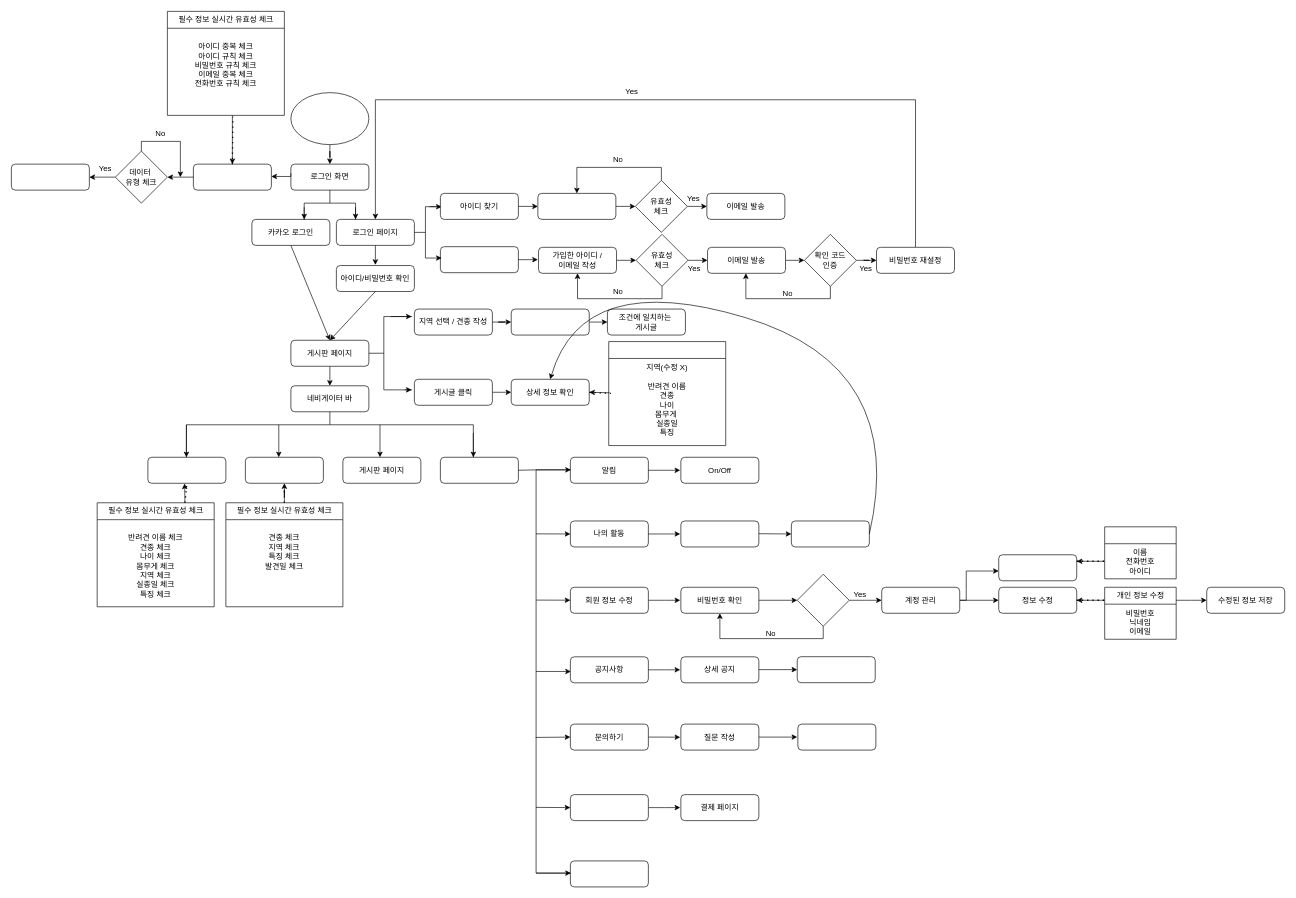
This 1296x898 diagram has some shape labels left out. The shapes that lost their labels are listed below. From the top down, each one's box as (x1, y1, x2, y2) in pixels, then its label:
(290, 92, 369, 145): 로딩 화면
(11, 163, 89, 190): 계정 등록
(193, 163, 271, 190): 회원정보 입력
(537, 193, 616, 219): 가입한 이메일 작성
(440, 246, 518, 273): 비밀번호 찾기
(511, 308, 589, 335): 검색
(608, 341, 726, 446): 상세정보 확인 및 수정 가능 내용
(147, 457, 226, 483): 실종 글쓰기 페이지
(245, 457, 323, 483): 제보 글쓰기 페이지
(440, 457, 518, 483): 마이페이지
(680, 520, 759, 547): 내가 쓴 글/ 댓글
(791, 520, 869, 547): 게시물 이동
(1104, 526, 1176, 579): 개인 정보 확인
(998, 554, 1077, 581): 정보 확인
(797, 574, 849, 626): 기존 비밀번호 인증
(797, 656, 875, 683): 이전 글 / 다음 글
(797, 723, 876, 750): 등록
(570, 794, 648, 821): 추천 60분 후원하기
(570, 860, 648, 887): 로그아웃
